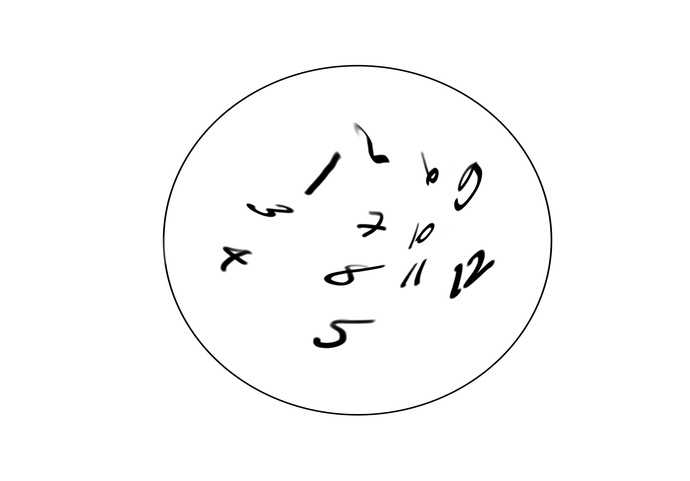eight: (323, 255, 381, 289)
eleven: (398, 257, 427, 290)
five: (309, 310, 380, 352)
four: (214, 240, 257, 276)
nine: (452, 155, 484, 213)
one: (302, 146, 343, 197)
seven: (355, 203, 390, 241)
six: (413, 146, 440, 185)
ten: (410, 219, 435, 247)
three: (245, 195, 295, 220)
twelve: (448, 247, 496, 301)
two: (348, 116, 393, 164)
